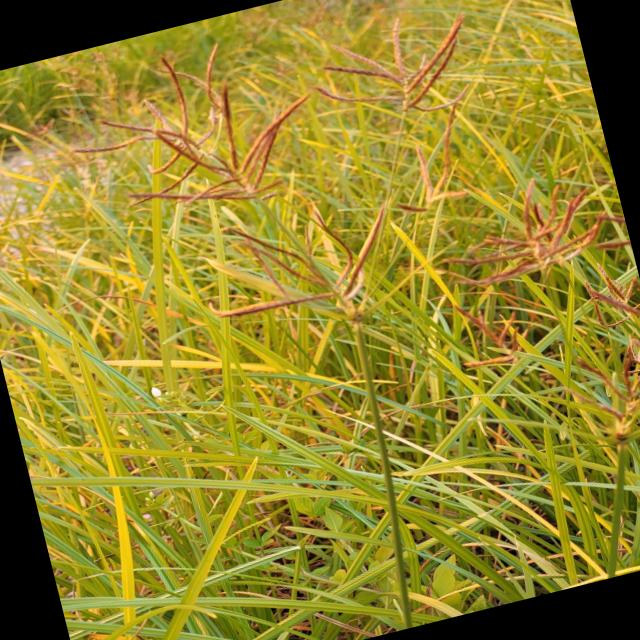cyperus: (415, 159, 640, 453), (56, 23, 330, 250), (182, 180, 414, 353), (310, 0, 489, 141)
